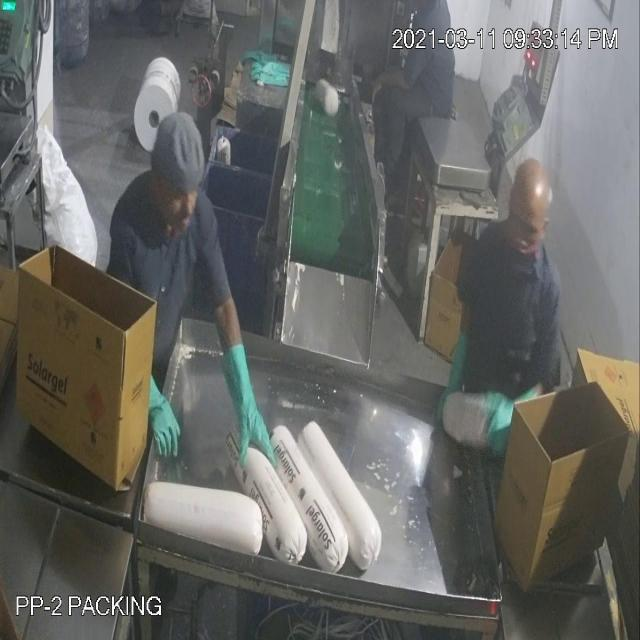Gloves: (49, 46, 393, 410)
